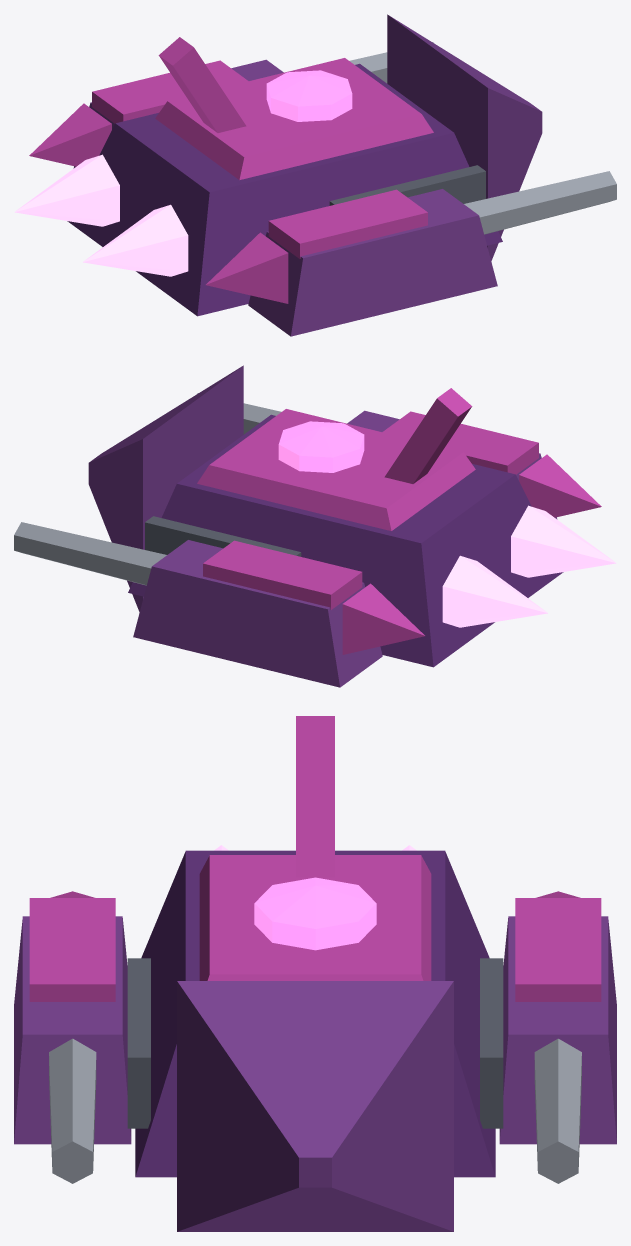
File: enemy_striker.glb
The picture shows the model from 3 angles, top to bottom: view 1: azimuth 30°, elevation 25°; view 2: azimuth 150°, elevation 25°; view 3: azimuth 270°, elevation 25°; orthographic projection. The views are drawn at different scales.
Parts seen in each view (by area): view 1: Hull, GlowEngine, GlowCore; view 2: Hull, GlowEngine, GlowCore; view 3: Hull, GlowCore.
Part boxes in pixels (x1,y1,x2,y2): Hull: (29, 14, 616, 336); GlowEngine: (14, 154, 188, 276); GlowCore: (266, 70, 352, 121); Hull: (14, 365, 601, 687); GlowEngine: (442, 505, 616, 627); GlowCore: (278, 421, 364, 472); Hull: (14, 716, 616, 1231); GlowCore: (254, 877, 376, 950).
Size of the model in its own units: 0.99 by 0.4896 by 0.77.
